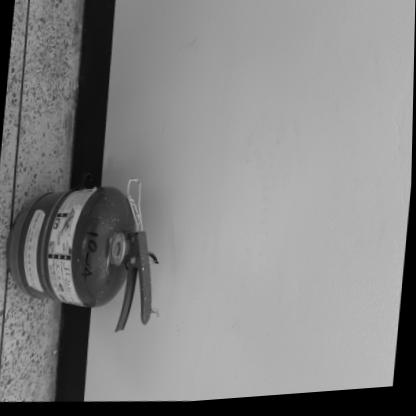FE: (0, 182, 163, 342)
